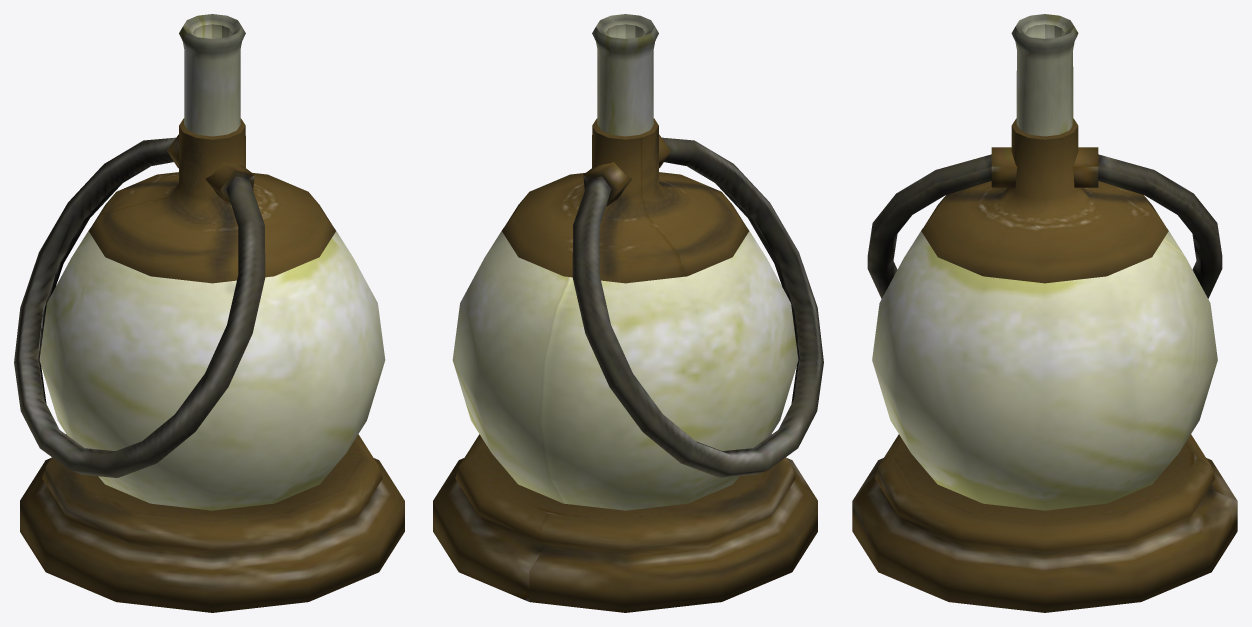
The model's file is oilLamp.fbx.
3 views of the same model, side by side, from view 1: azimuth 30°, elevation 25°; view 2: azimuth 150°, elevation 25°; view 3: azimuth 270°, elevation 25° (orthographic).
Parts seen in each view (by area): view 1: metal, verre; view 2: metal, verre; view 3: verre, metal.
Part boxes in pixels (box(x1,y1,x2,y2)): metal: box(14, 118, 404, 612); verre: box(39, 14, 385, 510); metal: box(433, 118, 823, 612); verre: box(452, 14, 798, 510); verre: box(872, 14, 1217, 510); metal: box(852, 118, 1237, 612).
Size of the model in its own units: 29.53 by 42.74 by 29.53.
